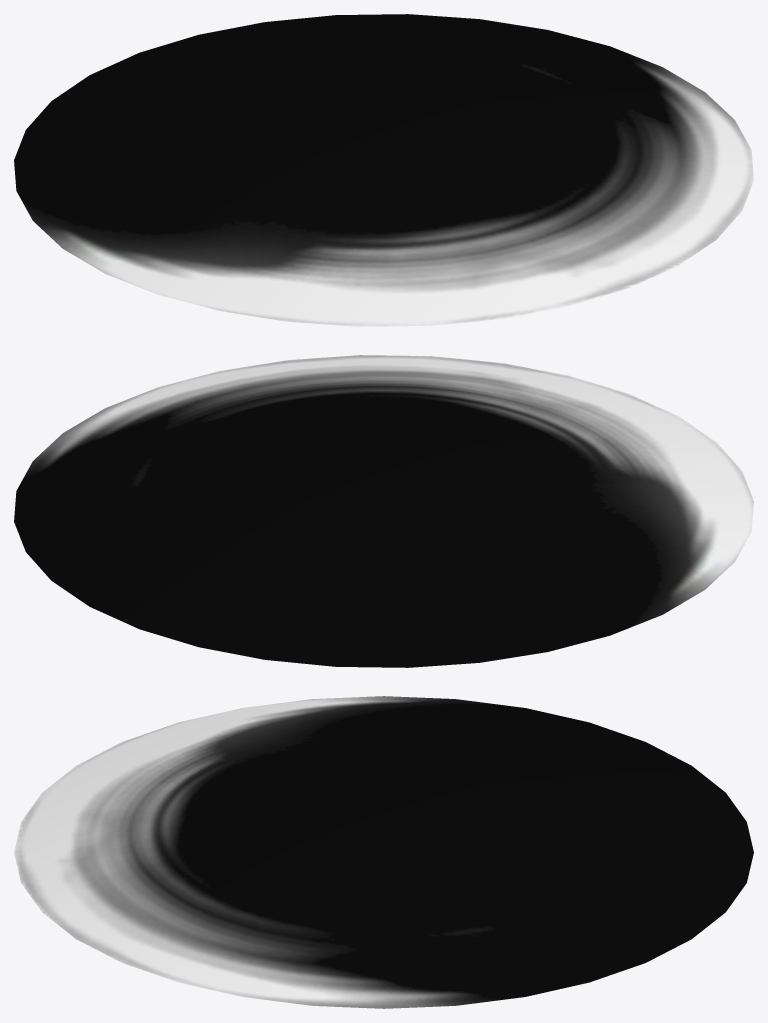
The model's file is slash.obj.
3 renders of one model, top to bottom at view 1: azimuth 30°, elevation 25°; view 2: azimuth 150°, elevation 25°; view 3: azimuth 270°, elevation 25°, orthographic.
Parts seen in each view (by area): view 1: Mesh; view 2: Mesh; view 3: Mesh.
Part boxes in pixels (bbox=[...]): Mesh: bbox=[14, 14, 753, 326]; Mesh: bbox=[14, 355, 753, 667]; Mesh: bbox=[14, 696, 753, 1008].
Size of the model in its own units: 18 by 2.25 by 18.
Materials: 1 (1 with a texture image).
